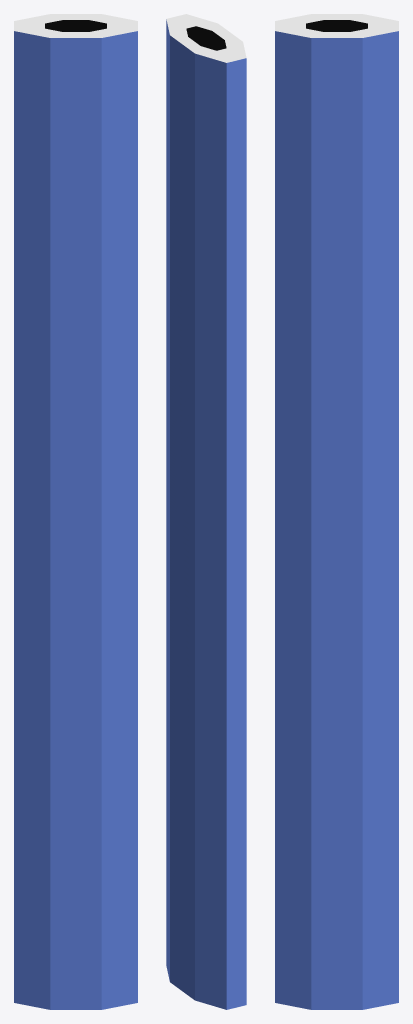
The model's file is pencil03.gltf.
The picture shows the model from 3 angles, left to right: view 1: azimuth 90°, elevation 25°; view 2: azimuth 210°, elevation 25°; view 3: azimuth 270°, elevation 25°; orthographic projection. The views are drawn at different scales.
Visible parts, largest first — view 1: Cylinder; view 2: Cylinder; view 3: Cylinder.
Part boxes in pixels (x1,y1,x2,y2): Cylinder: [14, 14, 137, 1009]; Cylinder: [166, 14, 246, 1009]; Cylinder: [275, 14, 398, 1009].
Size of the model in its own units: 0.00656 by 0.1233 by 0.0142.
1 material, 1 textured.
